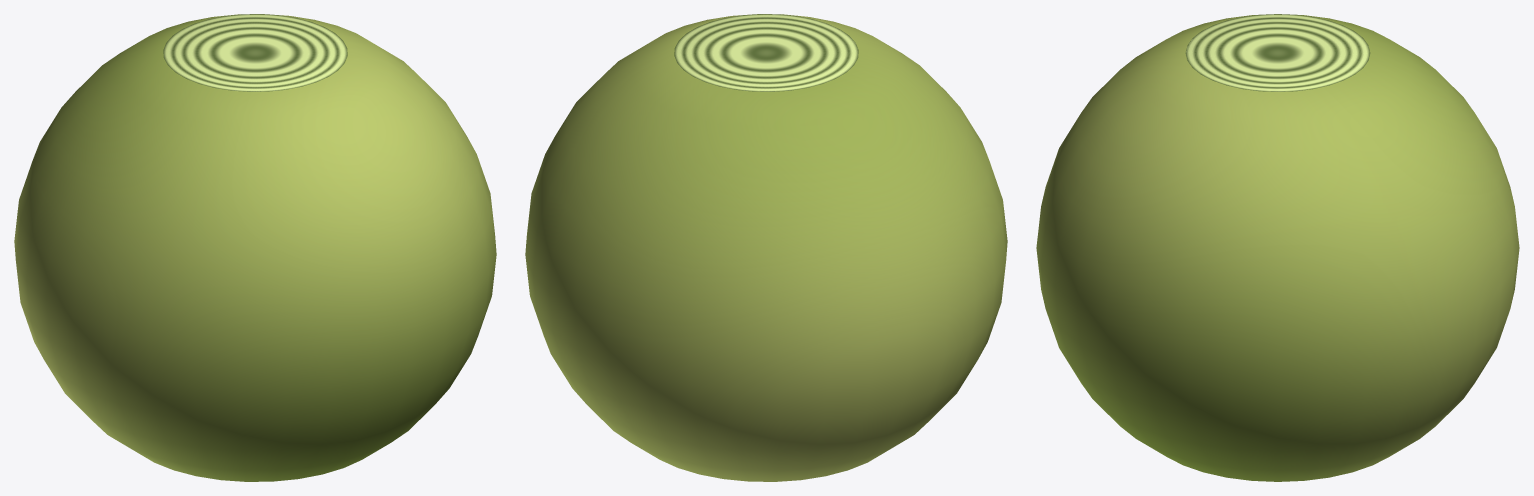
File: OnionNaked.glb
3 renders of one model, left to right at view 1: azimuth 30°, elevation 25°; view 2: azimuth 150°, elevation 25°; view 3: azimuth 270°, elevation 25°, orthographic.
Parts seen in each view (by area): view 1: Sphere.001; view 2: Sphere.001; view 3: Sphere.001.
Part boxes in pixels (box(x1,y1,x2,y2)): Sphere.001: box(14, 14, 496, 481); Sphere.001: box(525, 14, 1007, 481); Sphere.001: box(1036, 14, 1519, 481).
Bounding box in the file's own units: 3.75 × 3.34 × 3.75.
2 materials, 2 textured.
